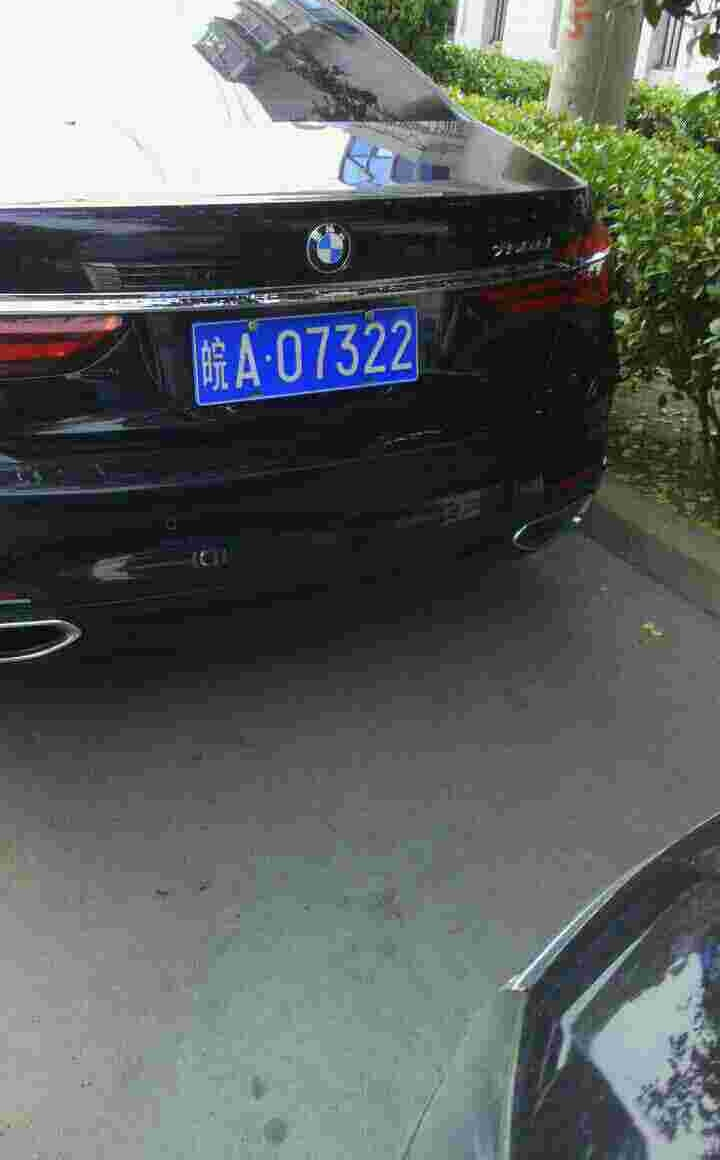license_plate: (190, 304, 419, 412)
